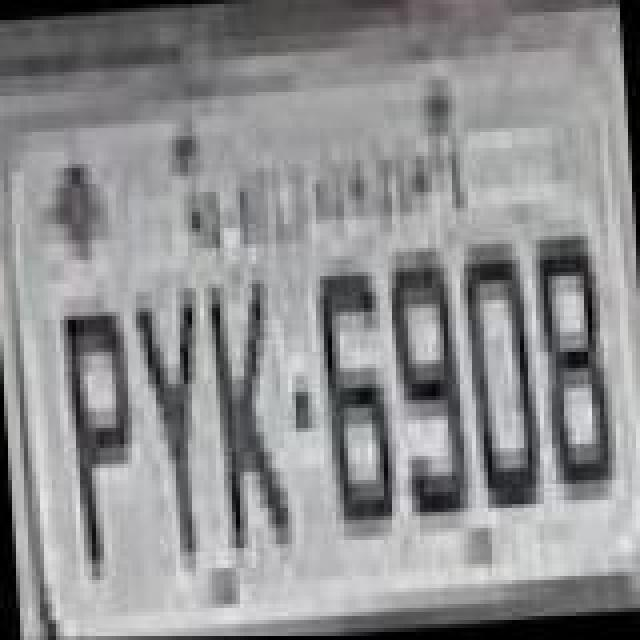6: (316, 260, 404, 532)
8: (534, 236, 618, 504)
9: (388, 248, 476, 524)
K: (206, 284, 298, 560)
O: (462, 240, 546, 516)
P: (60, 294, 148, 582)
Y: (132, 288, 220, 572)
